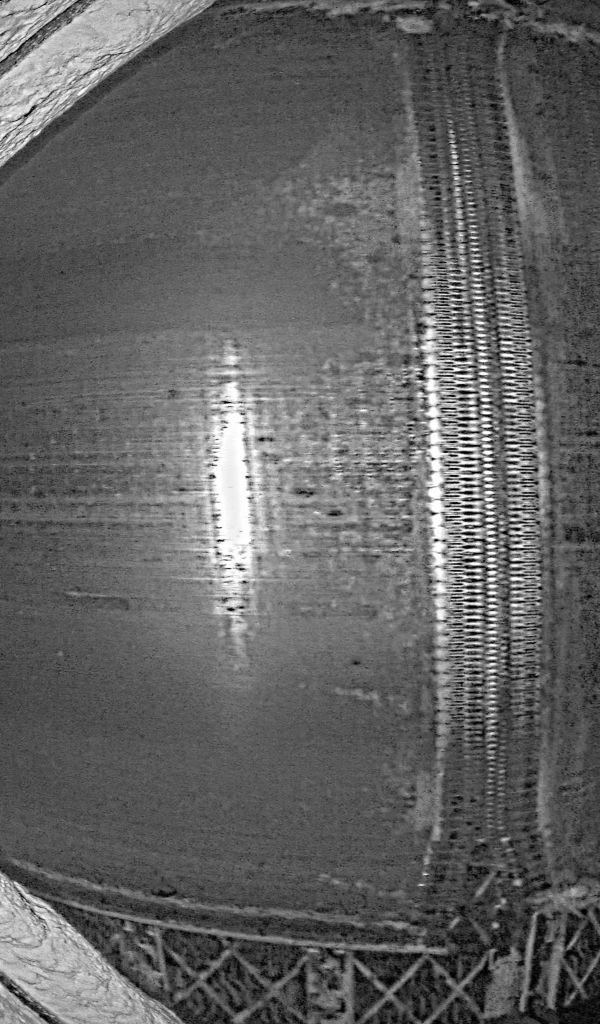damage: (407, 835, 544, 933)
splice: (403, 16, 548, 949)
